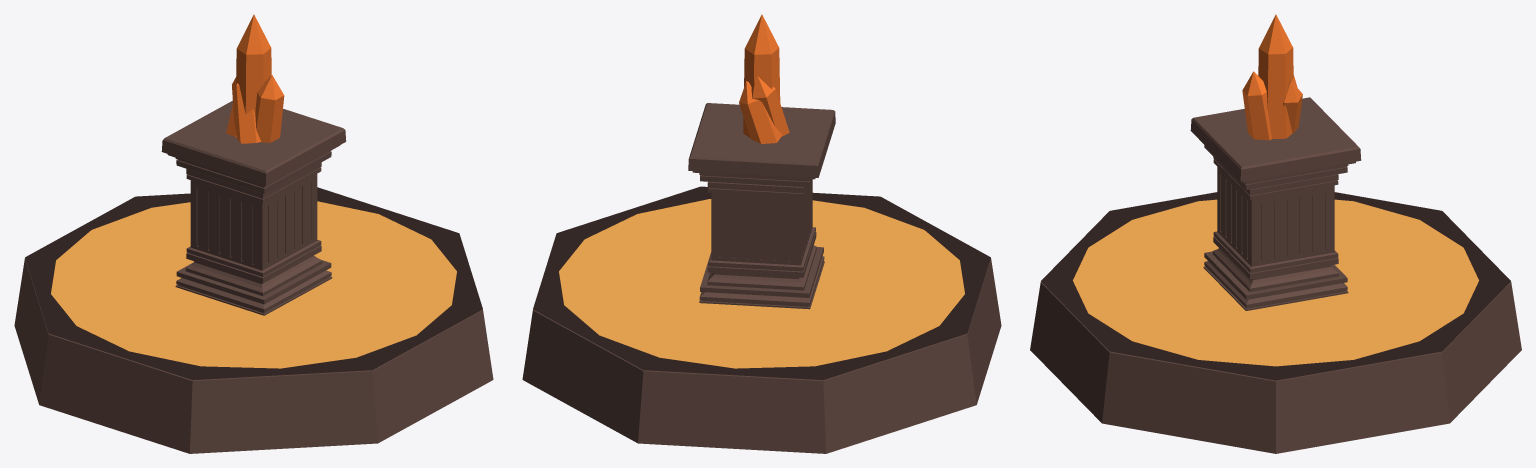
The model's file is spring.fbx.
3 views of the same model, side by side, from view 1: azimuth 30°, elevation 25°; view 2: azimuth 150°, elevation 25°; view 3: azimuth 270°, elevation 25° (orthographic).
Visible parts, largest first — view 1: spring; view 2: spring; view 3: spring.
Part boxes in pixels (x1,y1,x2,y2): spring: (14,14,493,453); spring: (522,14,1001,453); spring: (1030,14,1521,453).
Size of the model in its own units: 2.76 by 2.08 by 2.76.
